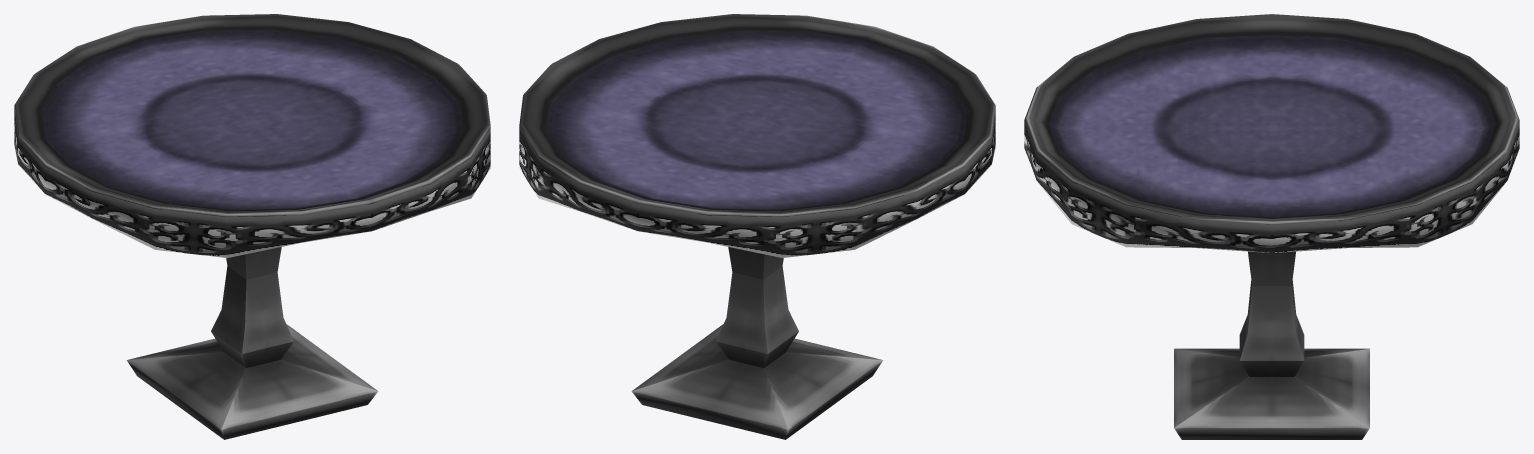
Rendered from GothicRoundtable_HD.fbx.
3 views of the same model, side by side, from view 1: azimuth 30°, elevation 25°; view 2: azimuth 150°, elevation 25°; view 3: azimuth 270°, elevation 25° (orthographic). The views are drawn at different scales.
Parts seen in each view (by area): view 1: GothicRoundtable; view 2: GothicRoundtable; view 3: GothicRoundtable.
Part boxes in pixels (x1=…): GothicRoundtable: x1=14, y1=14, x2=490, y2=439; GothicRoundtable: x1=519, y1=14, x2=995, y2=439; GothicRoundtable: x1=1024, y1=14, x2=1519, y2=439.
Size of the model in its own units: 0.941 by 0.6004 by 0.941.
